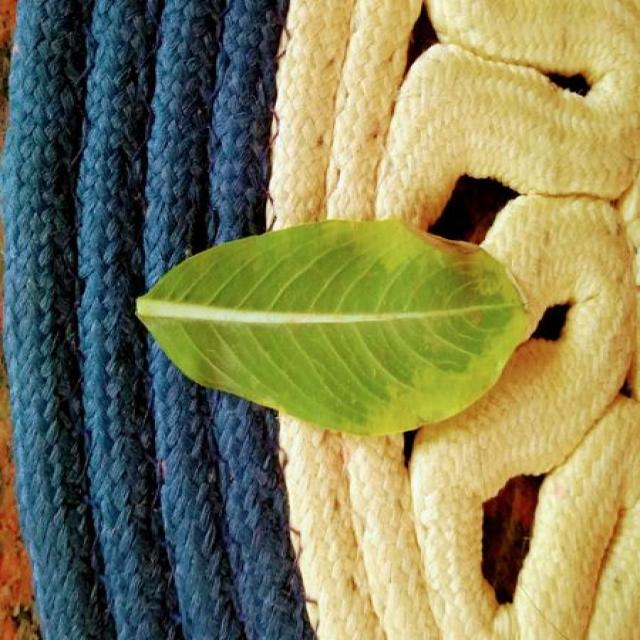catharanthus: (137, 219, 542, 434)
defectedcatharanthus: (338, 219, 523, 320)
